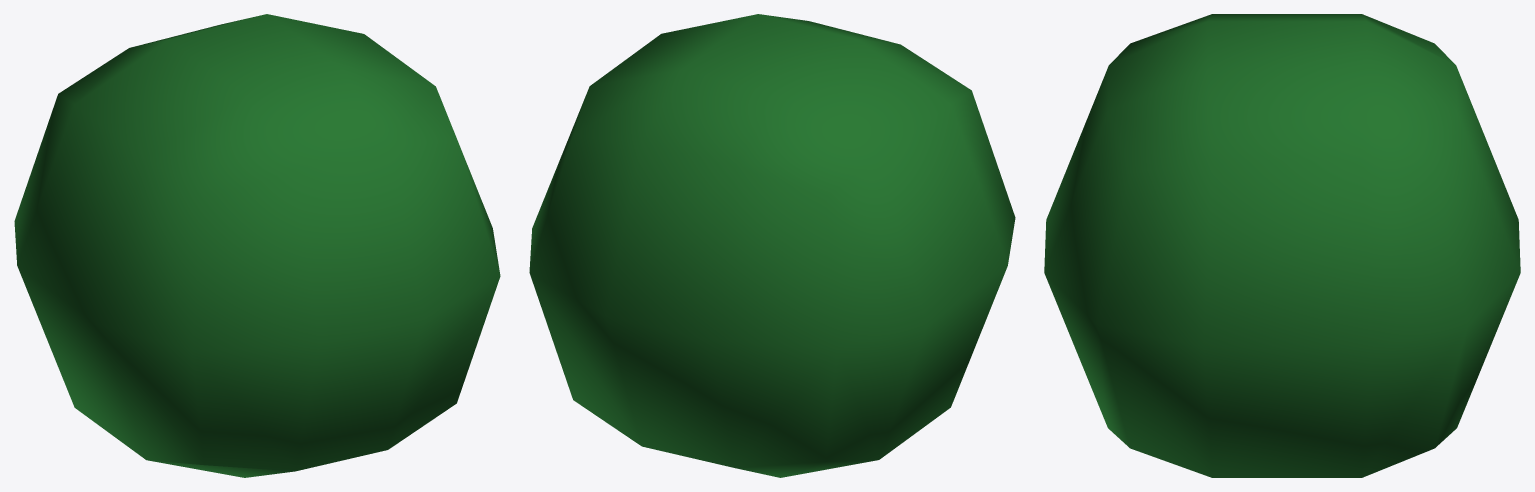
File: Arbeja.fbx
3 views of the same model, side by side, from view 1: azimuth 30°, elevation 25°; view 2: azimuth 150°, elevation 25°; view 3: azimuth 270°, elevation 25° (orthographic). The views are drawn at different scales.
Visible parts, largest first — view 1: Arbeja; view 2: Arbeja; view 3: Arbeja.
Boxes of the visible parts, x1,y1,x2,y2 form: Arbeja: (14,14,500,477); Arbeja: (529,14,1015,477); Arbeja: (1044,14,1520,477).
Size of the model in its own units: 30.82 by 28.73 by 30.82.
